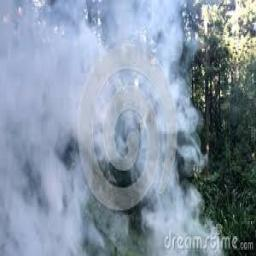Heavy smoke: (0, 0, 232, 255)
